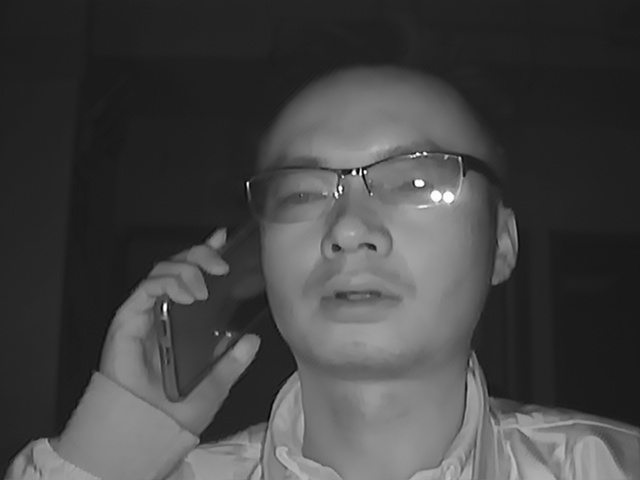hand: (99, 223, 259, 412)
